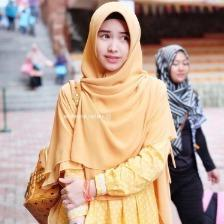HijabSyar-i: (39, 3, 179, 223)
